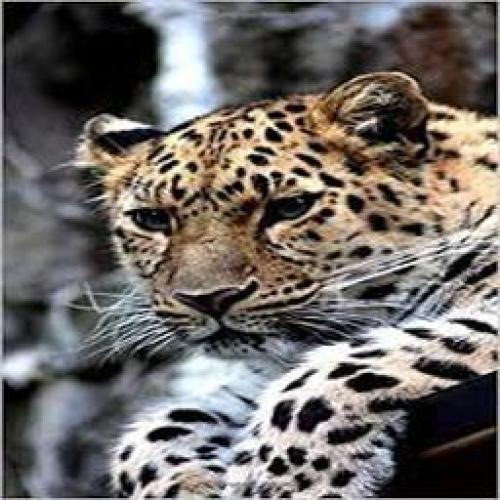amur_leopard-endangered: (79, 70, 500, 500)
